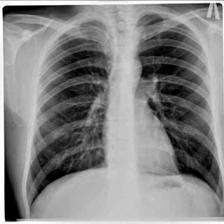tuberculosis: (22, 8, 224, 214)
